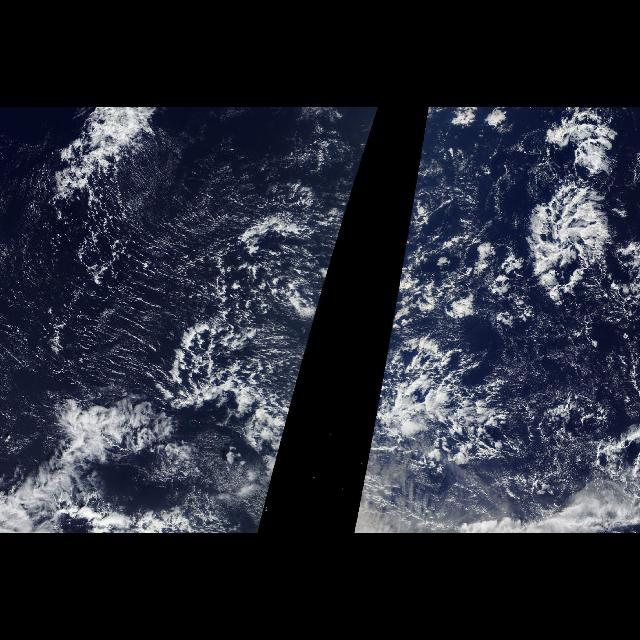Fish: (8, 404, 222, 528), (500, 112, 630, 304)
Flower: (512, 116, 626, 306)
Gravel: (188, 318, 296, 410)
Sugar: (0, 158, 272, 394), (506, 310, 622, 476)
